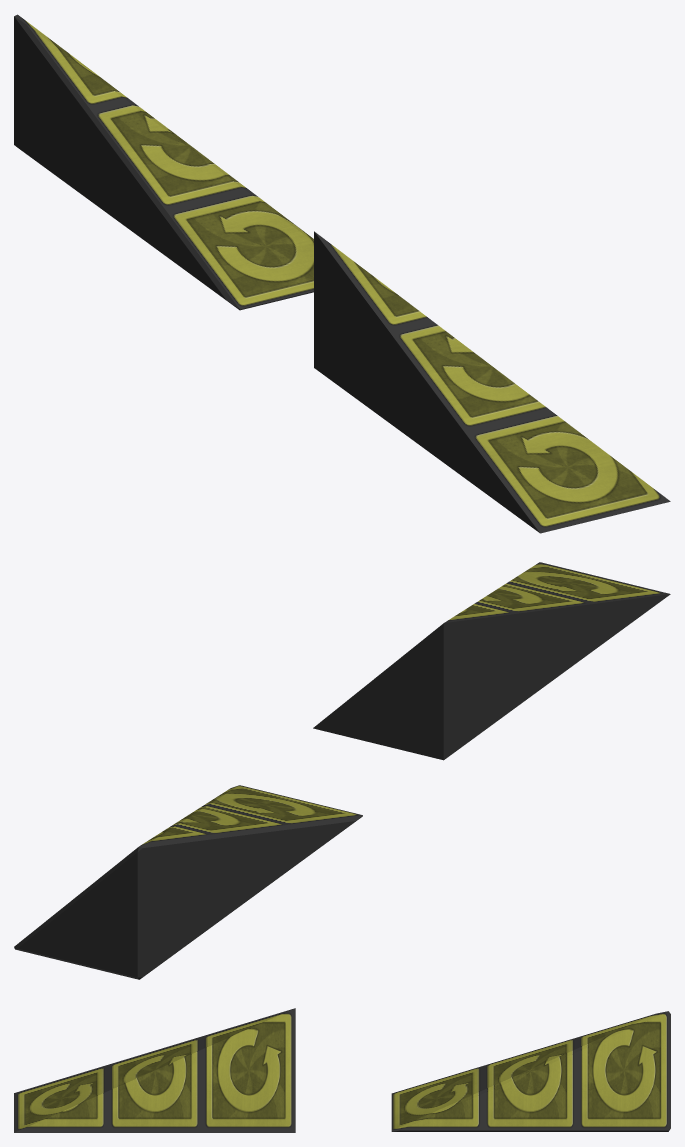
File: slope.outsideCorner.1x3.fbx
3 renders of one model, top to bottom at view 1: azimuth 30°, elevation 25°; view 2: azimuth 150°, elevation 25°; view 3: azimuth 270°, elevation 25°, orthographic. The views are drawn at different scales.
Parts seen in each view (by area): view 1: MESH slope.outsideCorner.1x3, MESH slope.outsideCorner.1x3.c; view 2: MESH slope.outsideCorner.1x3, MESH slope.outsideCorner.1x3.c; view 3: MESH slope.outsideCorner.1x3, MESH slope.outsideCorner.1x3.c.
Part boxes in pixels (x1,y1,x2,y2): MESH slope.outsideCorner.1x3: [314, 231, 670, 533]; MESH slope.outsideCorner.1x3.c: [14, 14, 313, 310]; MESH slope.outsideCorner.1x3: [313, 562, 670, 760]; MESH slope.outsideCorner.1x3.c: [14, 785, 362, 979]; MESH slope.outsideCorner.1x3: [14, 1008, 295, 1132]; MESH slope.outsideCorner.1x3.c: [391, 1011, 670, 1131].
Size of what is drawn, in the model's own units: 100 by 100 by 700.
